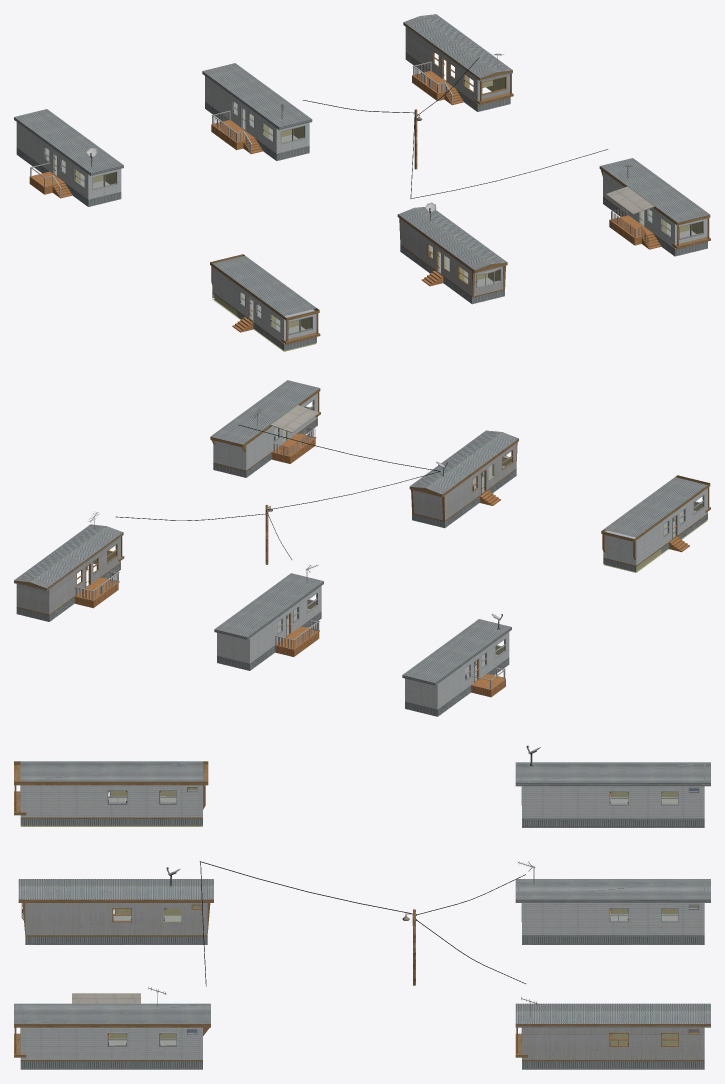
The model's file is canteen_building.glb.
3 views of the same model, one above another, from view 1: azimuth 30°, elevation 25°; view 2: azimuth 150°, elevation 25°; view 3: azimuth 270°, elevation 25° (orthographic). The views are drawn at different scales.
Parts seen in each view (by area): view 1: canteen_building; view 2: canteen_building; view 3: canteen_building.
Boxes of the visible parts, box(x1,y1,x2,y2) form: canteen_building: box(14, 14, 710, 351); canteen_building: box(14, 380, 710, 716); canteen_building: box(14, 745, 710, 1069).
Bounding box in the file's own units: 50.27 × 6.45 × 53.9.
20 materials, 19 textured.
